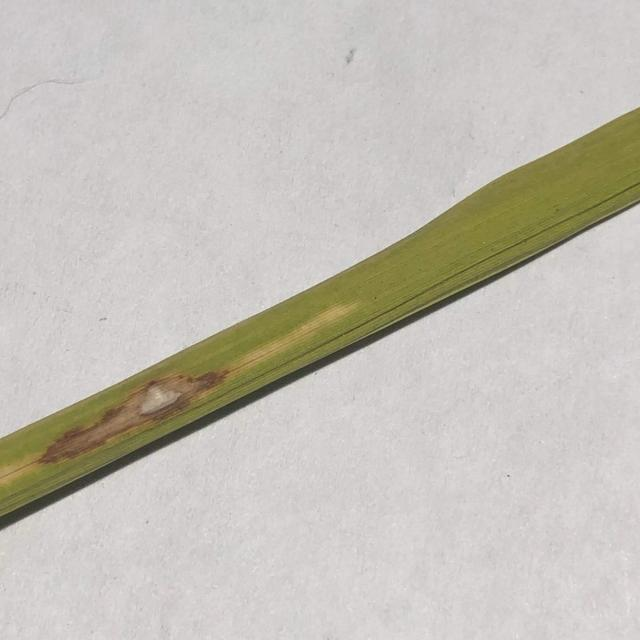Blast: (42, 424, 93, 461), (140, 384, 188, 421), (100, 410, 134, 440)
